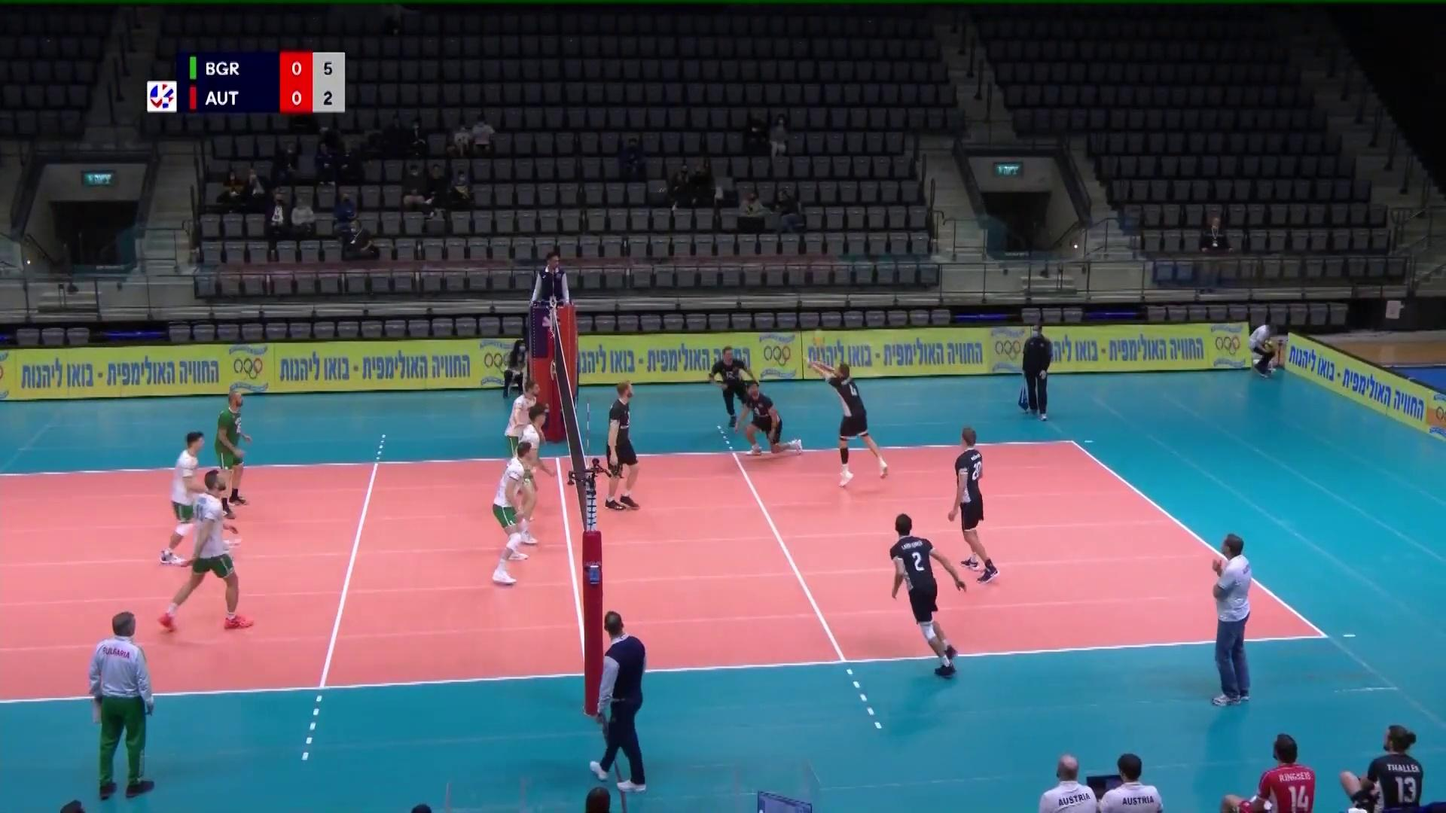ball: (813, 332, 825, 348)
